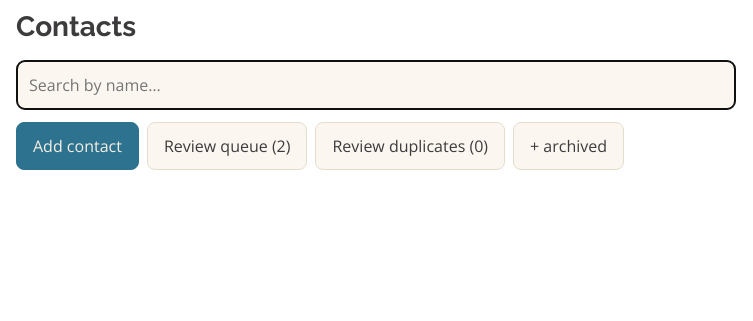
Test: contacts review queue — rows show and adapt (feature 069) › offers Clear on a complete row and Open to resolve on a sparse one
The width and height of the screenshot is (753, 321).
Click the button "Review queue (2)" at x=227, y=146, box [147,122,308,170]
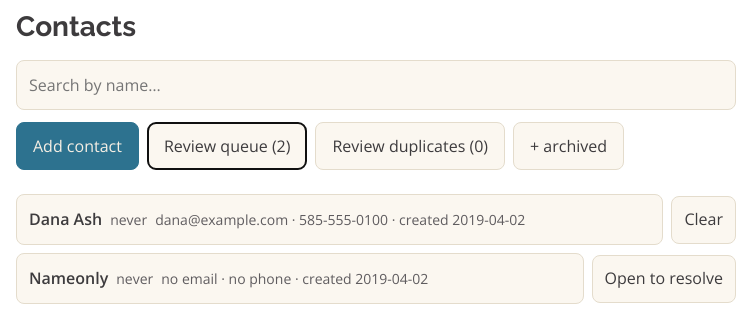
Expected: the button "Clear" is shown, [672,196,736,244]
Expected: the button "Open to resolve" is shown, [592,255,736,303]
